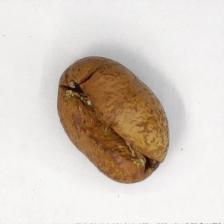NG: (88, 101, 169, 171), (66, 66, 109, 127)
